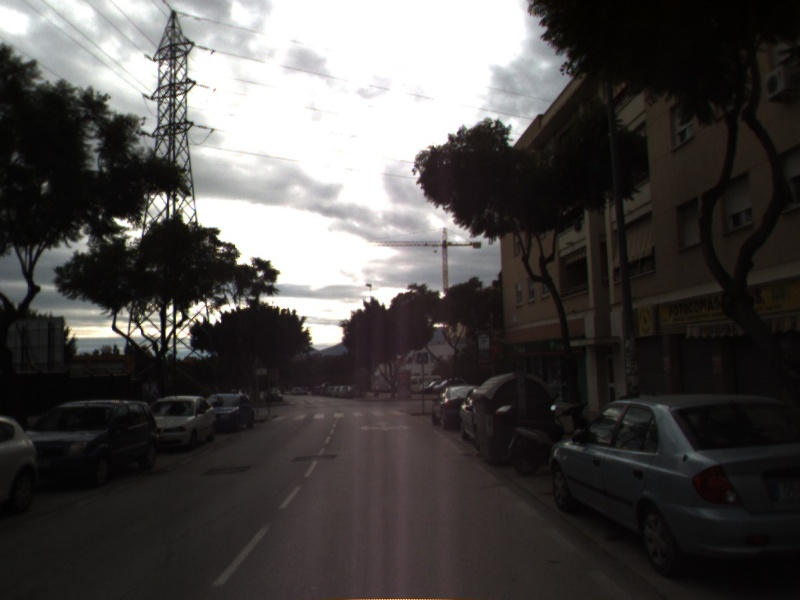STRAIGHT_LEFT_RIGHT: (357, 419, 411, 434)
